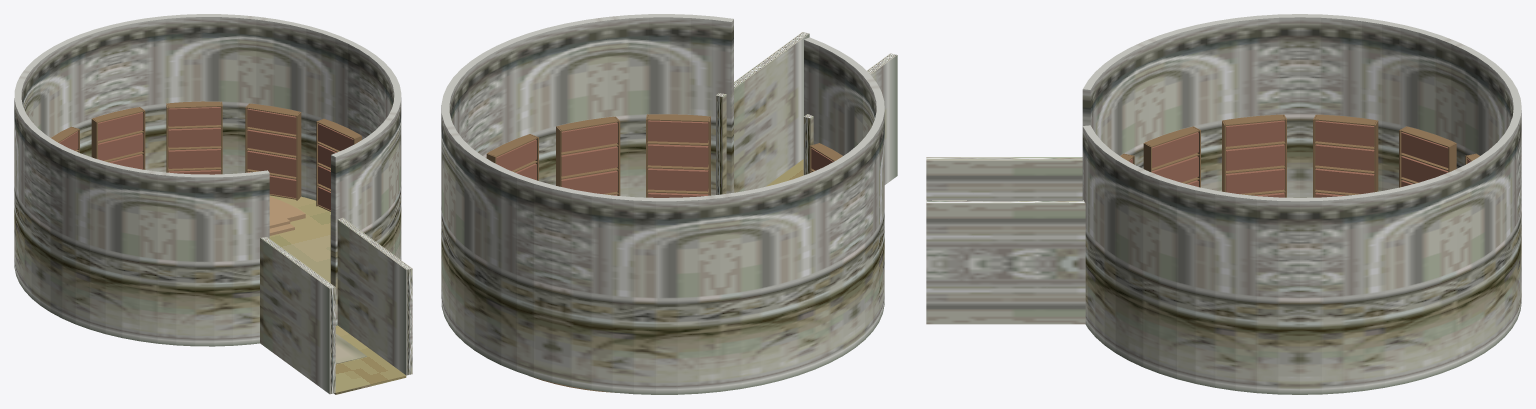
The model's file is s00e_office_m.glb.
3 renders of one model, left to right at view 1: azimuth 30°, elevation 25°; view 2: azimuth 150°, elevation 25°; view 3: azimuth 270°, elevation 25°, orthographic. The views are drawn at different scales.
Parts seen in each view (by area): view 1: Wall_Round, Hall_Wall_R, Hall_Wall_L, Shelf_01, Shelf_02, Floor_Round, Shelf_03, Hall_Floor, Shelf_00, Platform, Carpet_Runner, Shelf_04; view 2: Wall_Round, Hall_Wall_R, Shelf_10, Shelf_11, Hall_Wall_L, Shelf_12, Shelf_09; view 3: Wall_Round, Hall_Wall_R, Hall_Wall_L, Shelf_06, Shelf_07, Shelf_05, Shelf_08.
Part boxes in pixels (bbox=[...]): Wall_Round: bbox=[14, 14, 401, 346]; Hall_Wall_R: bbox=[330, 214, 412, 375]; Hall_Wall_L: bbox=[260, 237, 335, 394]; Shelf_01: bbox=[245, 103, 301, 200]; Shelf_02: bbox=[166, 101, 222, 174]; Floor_Round: bbox=[269, 195, 330, 282]; Shelf_03: bbox=[91, 107, 145, 169]; Hall_Floor: bbox=[334, 325, 406, 394]; Shelf_00: bbox=[316, 118, 361, 211]; Platform: bbox=[269, 197, 305, 221]; Carpet_Runner: bbox=[335, 333, 366, 364]; Shelf_04: bbox=[51, 126, 79, 152]; Wall_Round: bbox=[441, 14, 884, 394]; Hall_Wall_R: bbox=[716, 32, 809, 194]; Shelf_10: bbox=[646, 114, 710, 197]; Shelf_11: bbox=[556, 116, 620, 195]; Hall_Wall_L: bbox=[803, 53, 897, 184]; Shelf_12: bbox=[486, 134, 538, 180]; Shelf_09: bbox=[809, 143, 842, 173]; Wall_Round: bbox=[1082, 14, 1521, 394]; Hall_Wall_R: bbox=[926, 200, 1085, 324]; Hall_Wall_L: bbox=[926, 157, 1082, 199]; Shelf_06: bbox=[1313, 114, 1378, 197]; Shelf_07: bbox=[1222, 114, 1286, 197]; Shelf_05: bbox=[1399, 126, 1456, 187]; Shelf_08: bbox=[1143, 126, 1200, 187].
Bounding box in the file's own units: 33.2 × 16.4 × 44.6.
6 materials, 3 textured.
